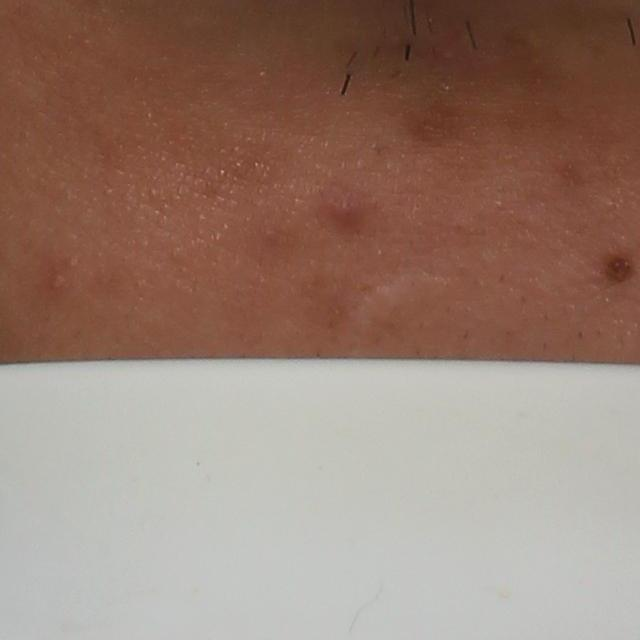hypertrophic_scar: (347, 268, 449, 351)
nevus: (602, 250, 639, 290)
papule: (317, 182, 368, 229)
